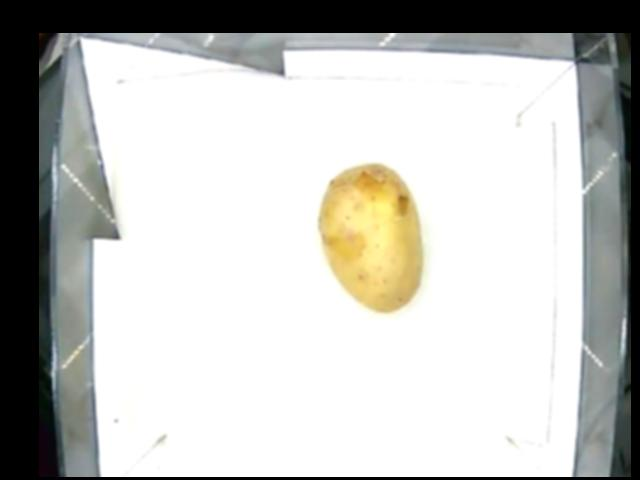Potato: (315, 162, 422, 314)
